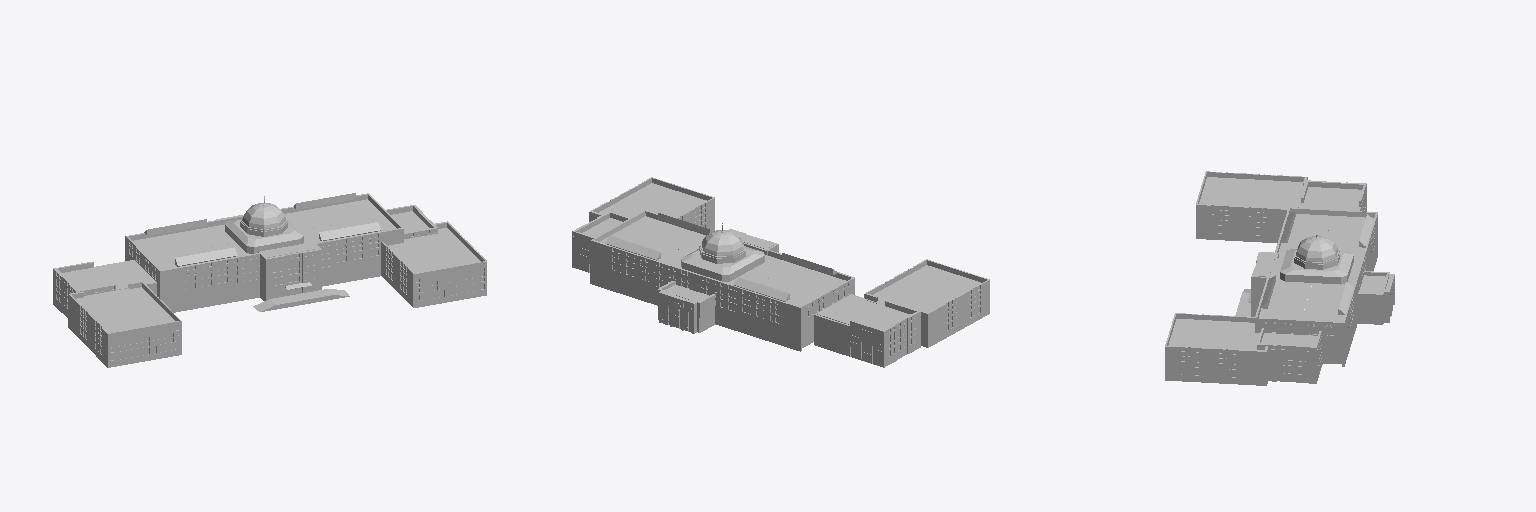
File: Ministry of Presidential Affairs.obj
3 renders of one model, left to right at view 1: azimuth 30°, elevation 25°; view 2: azimuth 150°, elevation 25°; view 3: azimuth 270°, elevation 25°, orthographic.
Visible parts, largest first — view 1: Object027, Object029, Object021, Object034, Object032, Object036, Line012, Object037, Box053, Box052; view 2: Object027, Object034, Object029, Object021, Object036, Line012, Object035, Object033, Box055, Box054; view 3: Object027, Object021, Object029, Object034, Object036, Object033, Line012, Object032.
Part boxes in pixels (x1,y1,x2,y2): Object027: (125, 193, 403, 312); Object029: (68, 281, 181, 367); Object021: (381, 221, 486, 307); Object034: (53, 205, 437, 317); Object032: (258, 242, 321, 300); Object036: (225, 218, 303, 253); Line012: (240, 196, 287, 236); Object037: (253, 289, 349, 311); Box053: (175, 247, 237, 266); Box052: (319, 222, 380, 240); Object027: (590, 210, 854, 351); Object034: (572, 211, 920, 367); Object029: (864, 259, 989, 347); Object021: (589, 177, 714, 231); Object036: (681, 246, 764, 281); Line012: (699, 223, 745, 263); Object035: (659, 290, 697, 333); Object033: (657, 281, 715, 332); Box055: (734, 277, 789, 301); Box054: (605, 235, 660, 260); Object027: (1255, 208, 1377, 366); Object021: (1165, 313, 1268, 385); Object029: (1196, 171, 1307, 242); Object034: (1257, 180, 1366, 383); Object036: (1280, 249, 1353, 284); Object033: (1358, 271, 1389, 324); Line012: (1294, 235, 1339, 269); Object032: (1251, 252, 1278, 316).
Size of the model in its own units: 1.62 by 0.3456 by 0.8727.